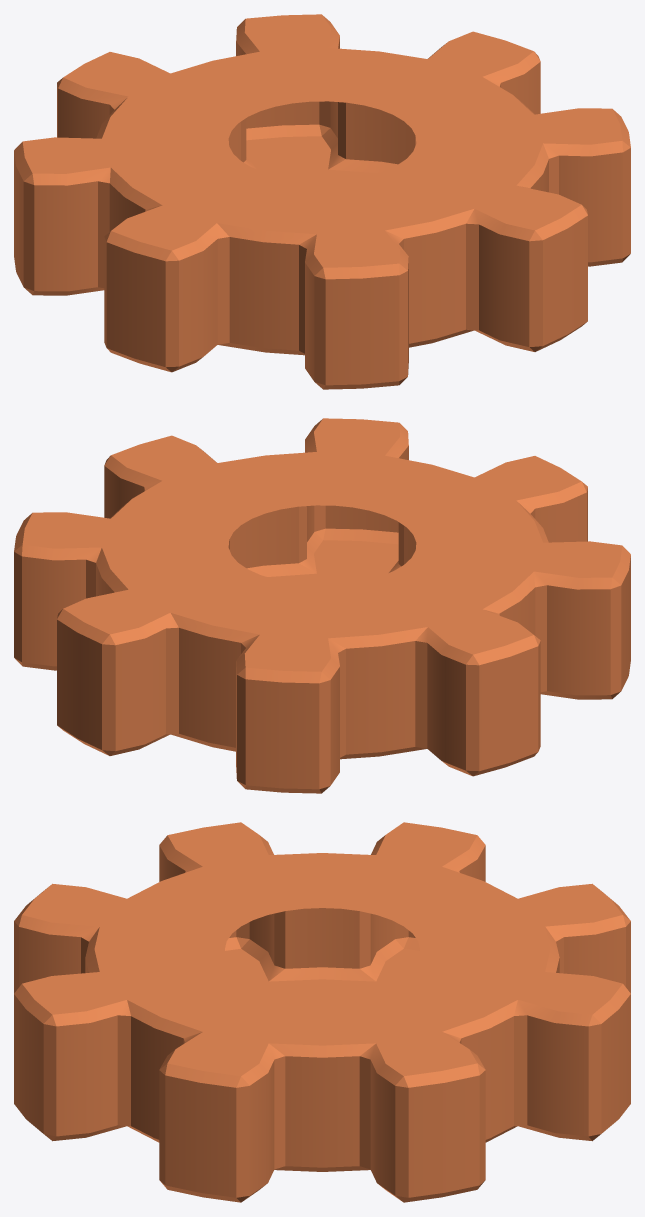
File: gear_02.gltf
The picture shows the model from 3 angles, top to bottom: view 1: azimuth 30°, elevation 25°; view 2: azimuth 150°, elevation 25°; view 3: azimuth 270°, elevation 25°; orthographic projection. The views are drawn at different scales.
Parts seen in each view (by area): view 1: Gear02; view 2: Gear02; view 3: Gear02.
Boxes of the visible parts, x1=… form: Gear02: x1=14, y1=14, x2=630, y2=389; Gear02: x1=14, y1=418, x2=630, y2=793; Gear02: x1=14, y1=822, x2=630, y2=1202.
Bounding box in the file's own units: 4.42 × 1 × 4.42.
